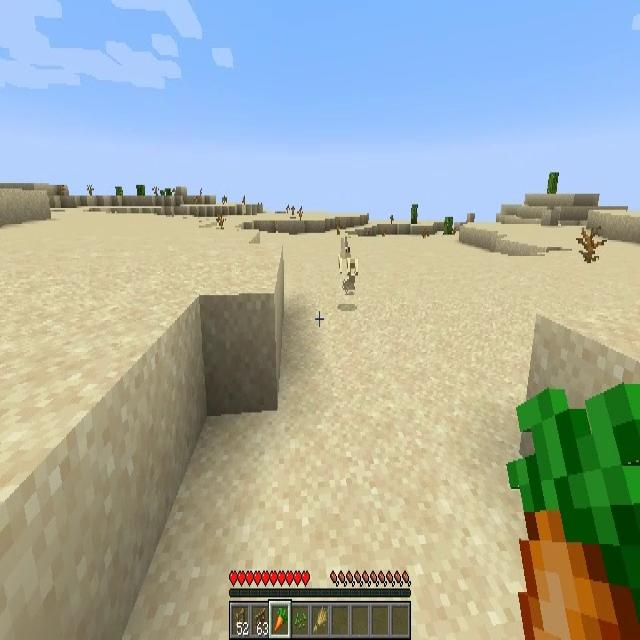rabbit: (338, 238, 354, 273), (342, 259, 358, 294)
